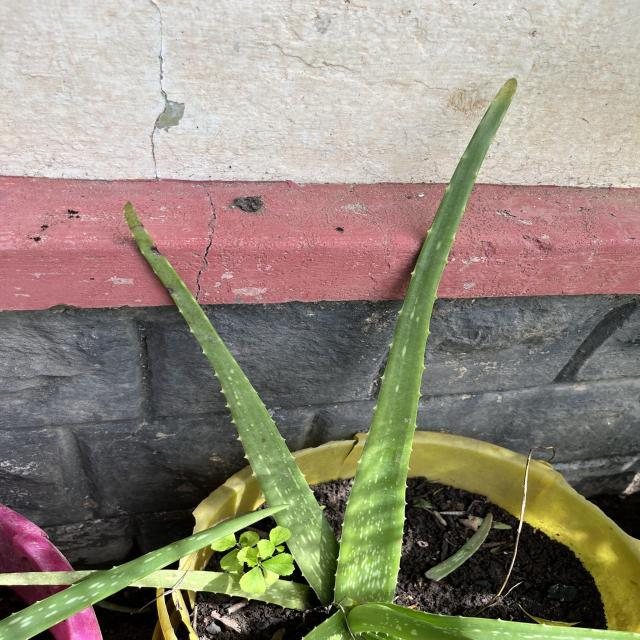Aloe vera: (330, 69, 526, 612), (117, 198, 339, 600)
